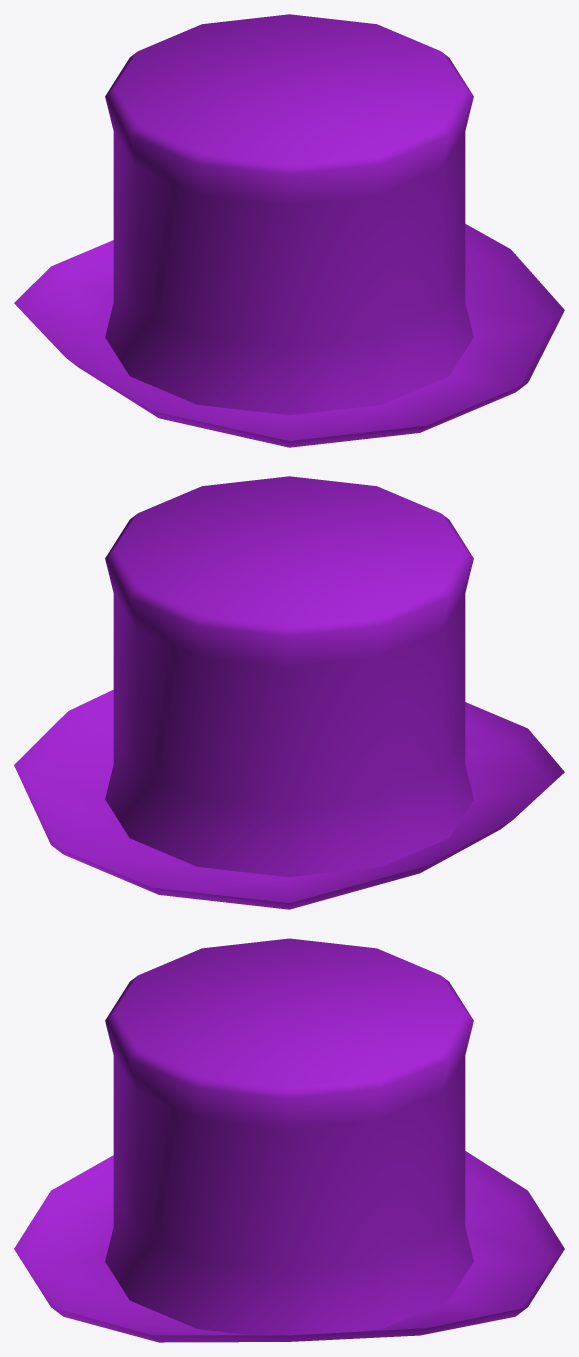
Rendered from shop cont hat 1 lod1.FBX.
The picture shows the model from 3 angles, top to bottom: view 1: azimuth 30°, elevation 25°; view 2: azimuth 150°, elevation 25°; view 3: azimuth 270°, elevation 25°; orthographic projection.
Parts seen in each view (by area): view 1: Cylinder293; view 2: Cylinder293; view 3: Cylinder293.
Part boxes in pixels (bbox=[...]): Cylinder293: bbox=[14, 14, 564, 447]; Cylinder293: bbox=[14, 476, 564, 909]; Cylinder293: bbox=[14, 938, 564, 1342].
Bounding box in the file's own units: 0.4433 × 0.2371 × 0.4753.
